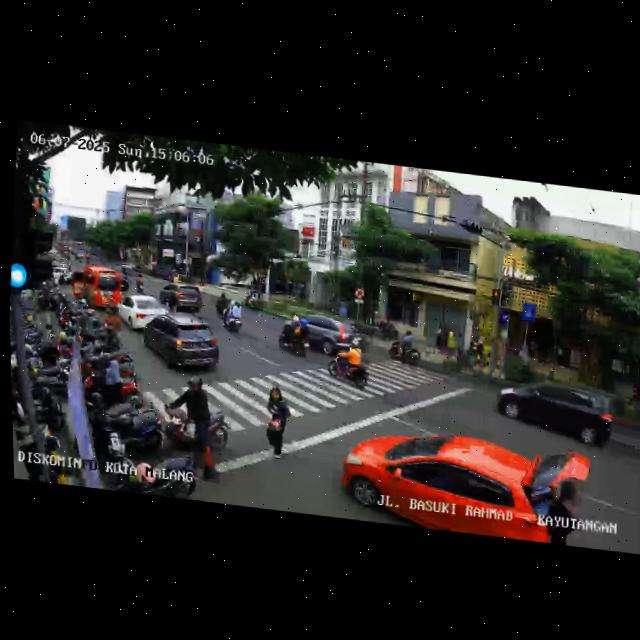car: (336, 420, 592, 548), (496, 371, 623, 454), (139, 307, 227, 377), (276, 307, 349, 363), (68, 263, 123, 311), (116, 292, 169, 334), (159, 278, 204, 315), (50, 256, 70, 279)
motorcycle: (162, 373, 234, 456), (326, 335, 374, 391), (388, 326, 423, 366), (221, 296, 247, 335), (213, 287, 231, 318), (119, 270, 130, 293), (134, 272, 145, 294)
person: (258, 385, 292, 466), (105, 305, 123, 341)
